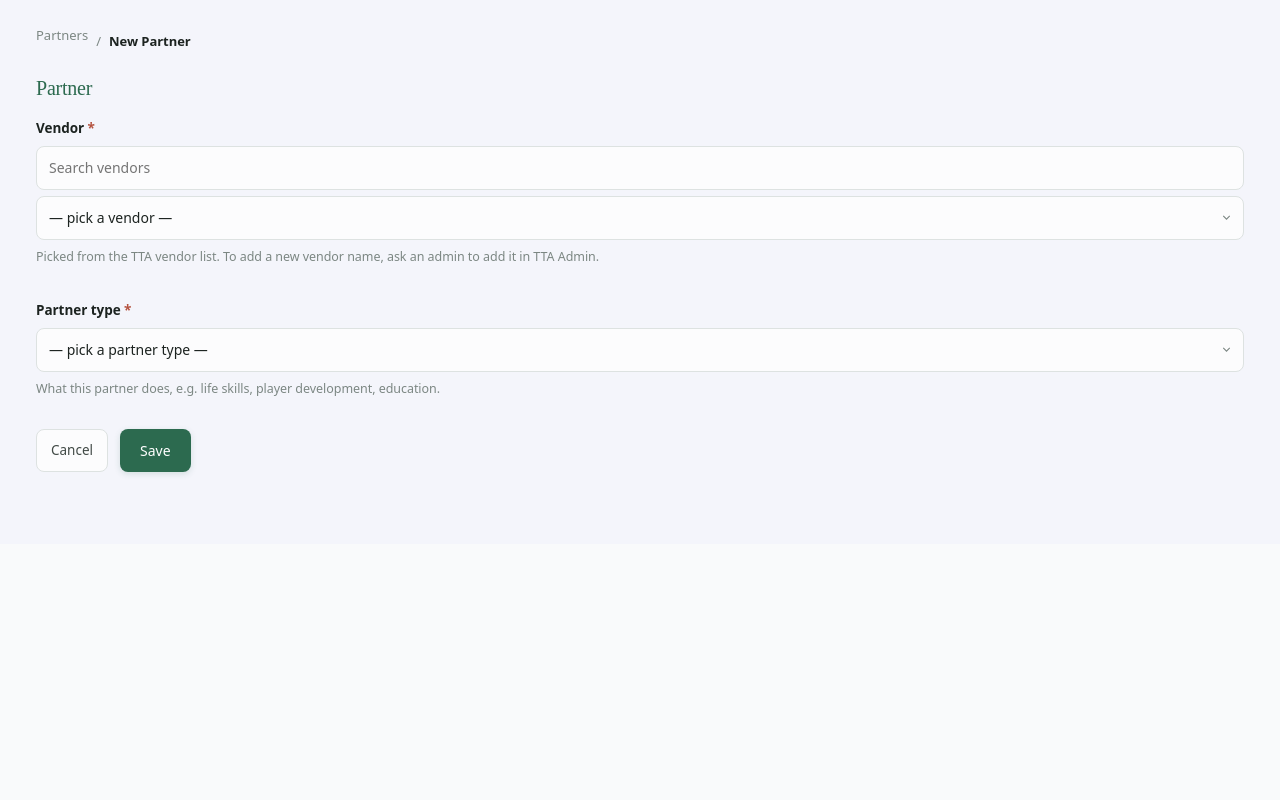
Test: adding a partner › partner type is required before anything is sent
Step 1. Select "A1 Classes · Coaching" in the dropdown labelled "Vendor *" → (640, 218), box [36,196,1244,240]
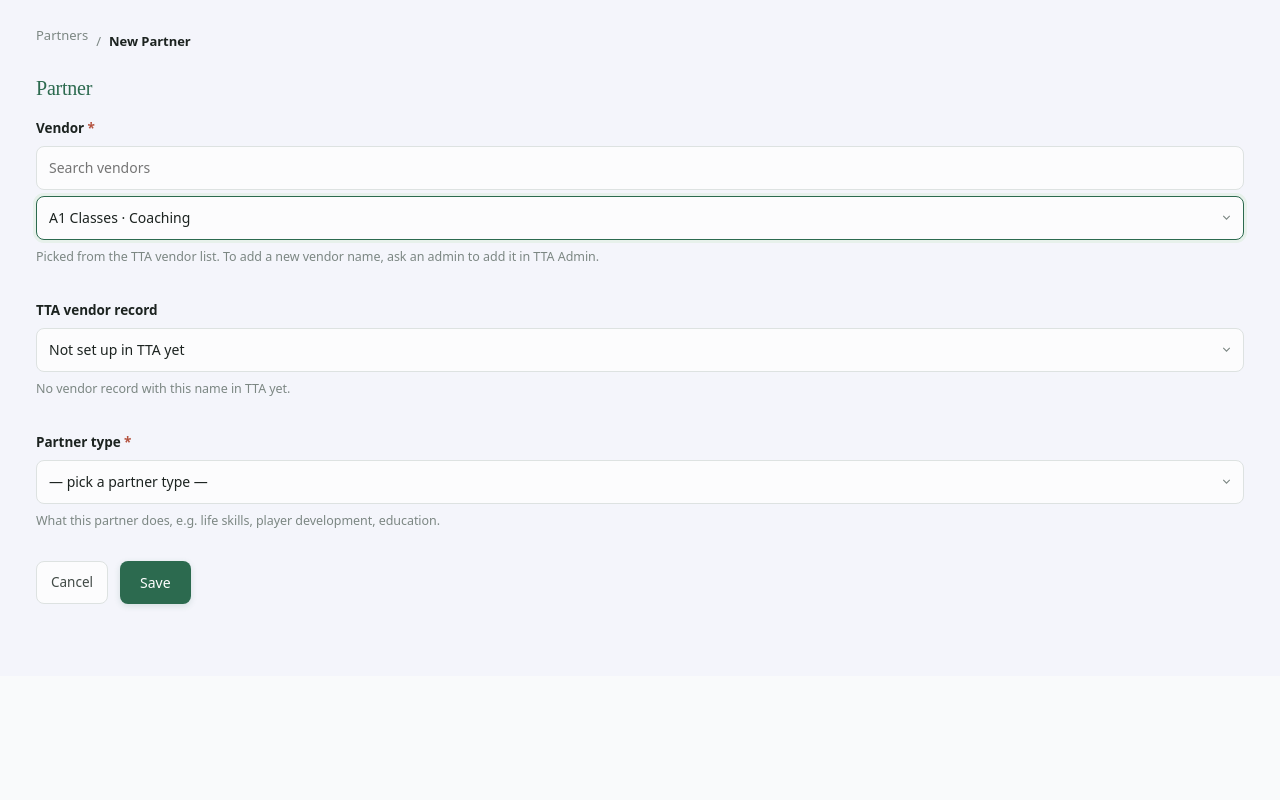
Step 2. Click the button "Save" → (155, 582), box [120,561,191,604]
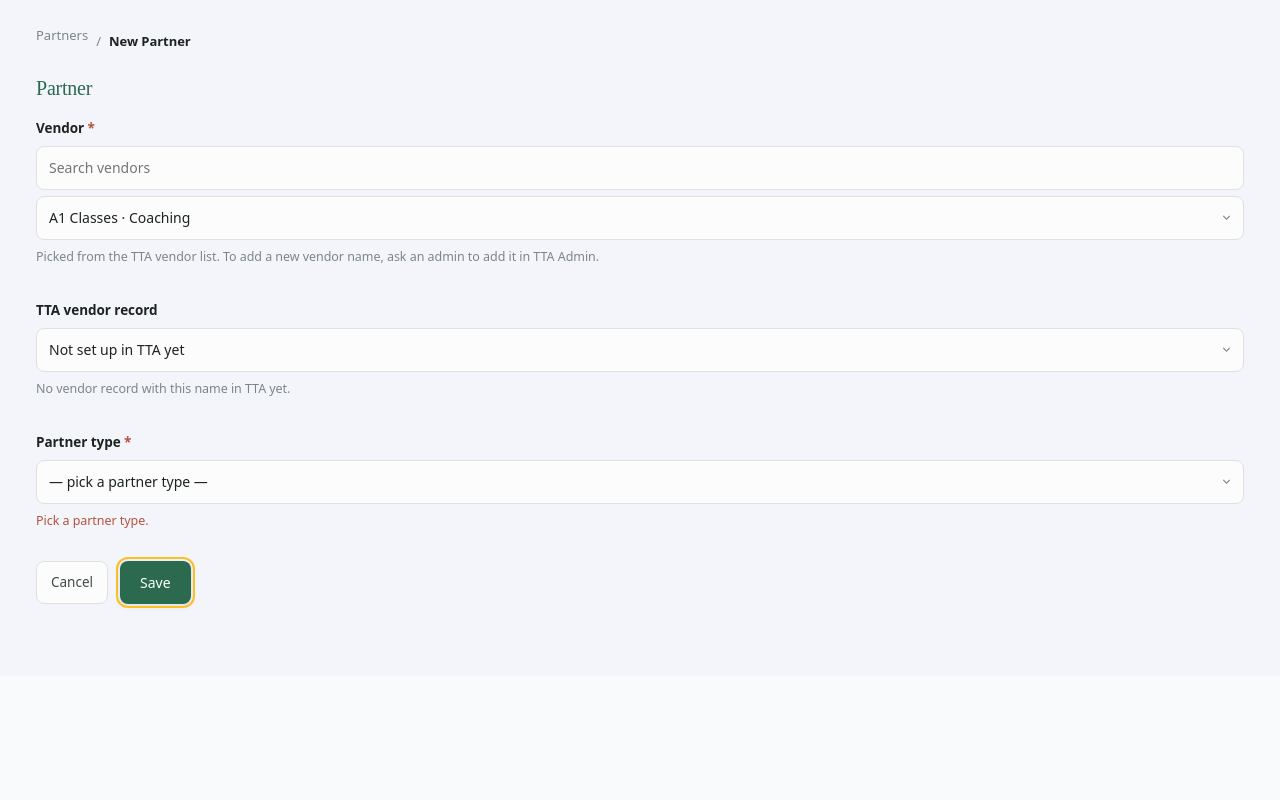
Check: the text "Pick a partner type." is shown, box [36,512,149,529]
